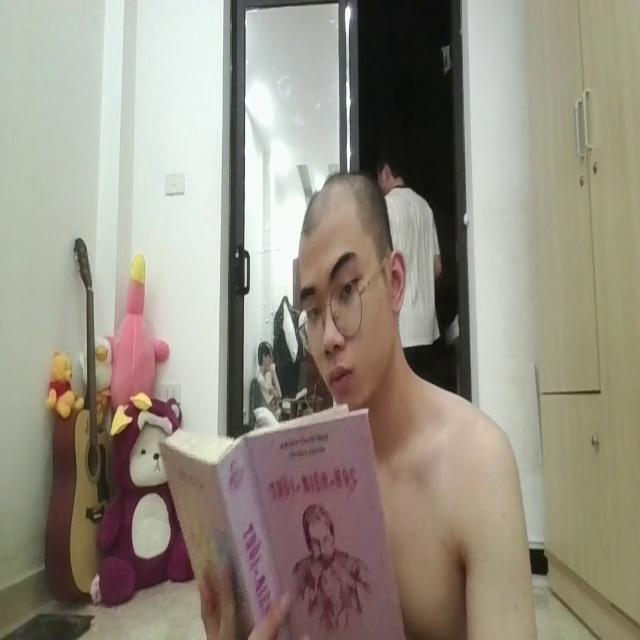book: (154, 405, 412, 640)
extra_person: (373, 146, 446, 374)
student: (288, 166, 540, 640)
